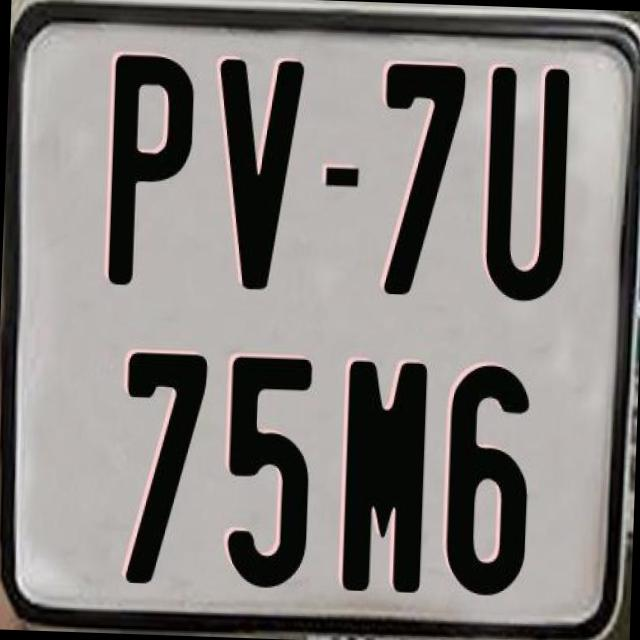5: (224, 356, 318, 598)
6: (441, 360, 532, 596)
7: (120, 346, 208, 586), (377, 63, 465, 300)
M: (338, 356, 426, 596)
P: (105, 48, 194, 282)
U: (481, 62, 566, 300)
V: (208, 54, 306, 294)
